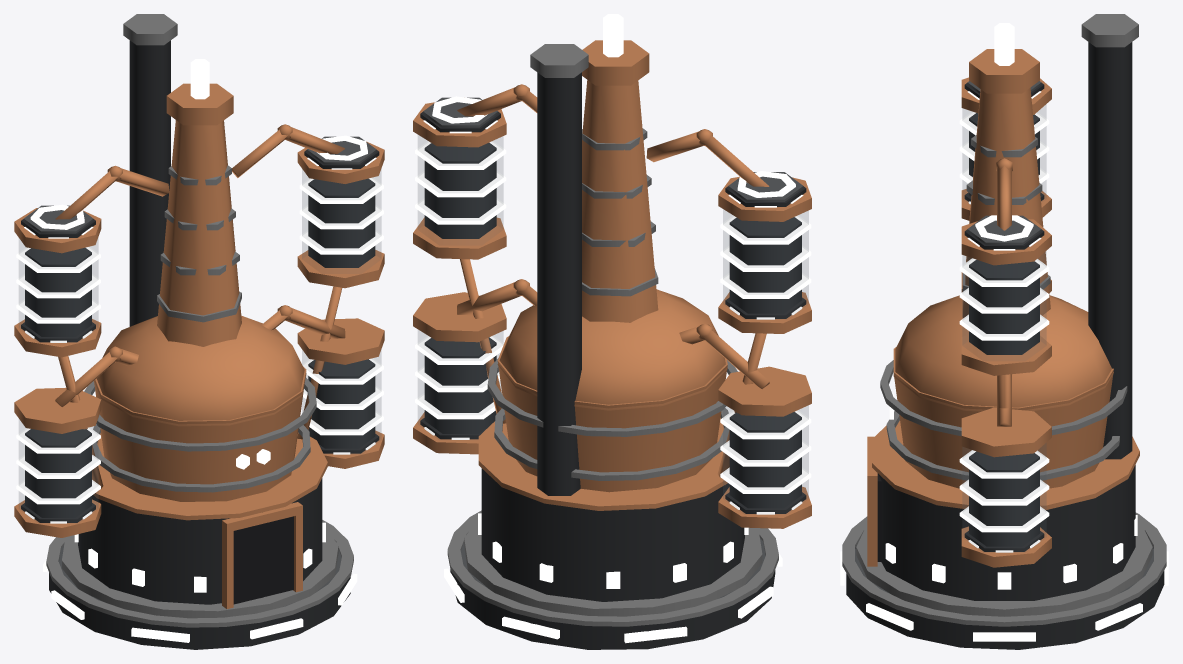
Rendered from Skin_Distillery_T3.glb.
3 views of the same model, side by side, from view 1: azimuth 30°, elevation 25°; view 2: azimuth 150°, elevation 25°; view 3: azimuth 270°, elevation 25° (orthographic). The views are drawn at different scales.
Visible parts, largest first — view 1: Skin_Distillery_T3; view 2: Skin_Distillery_T3; view 3: Skin_Distillery_T3.
Boxes of the visible parts, x1,y1,x2,y2 form: Skin_Distillery_T3: (14, 14, 384, 649); Skin_Distillery_T3: (413, 14, 811, 649); Skin_Distillery_T3: (840, 14, 1168, 649).
Size of the model in its own units: 5.19 by 7.27 by 3.88.
